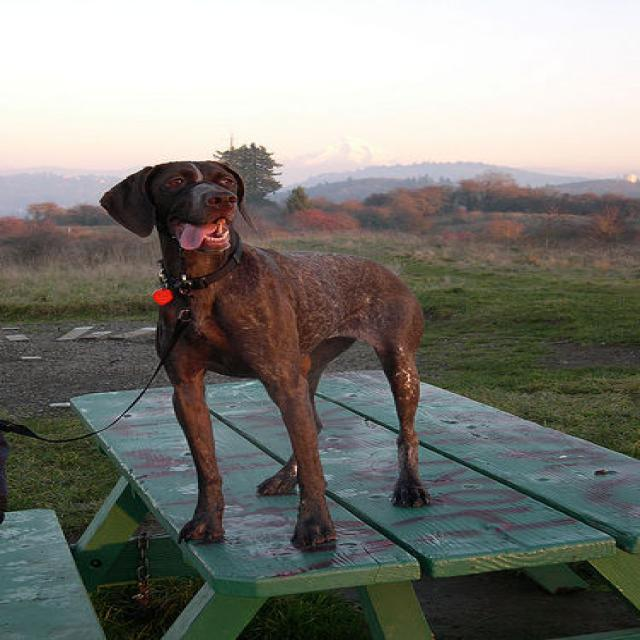dog-german_shorthaired: (89, 152, 432, 552)
